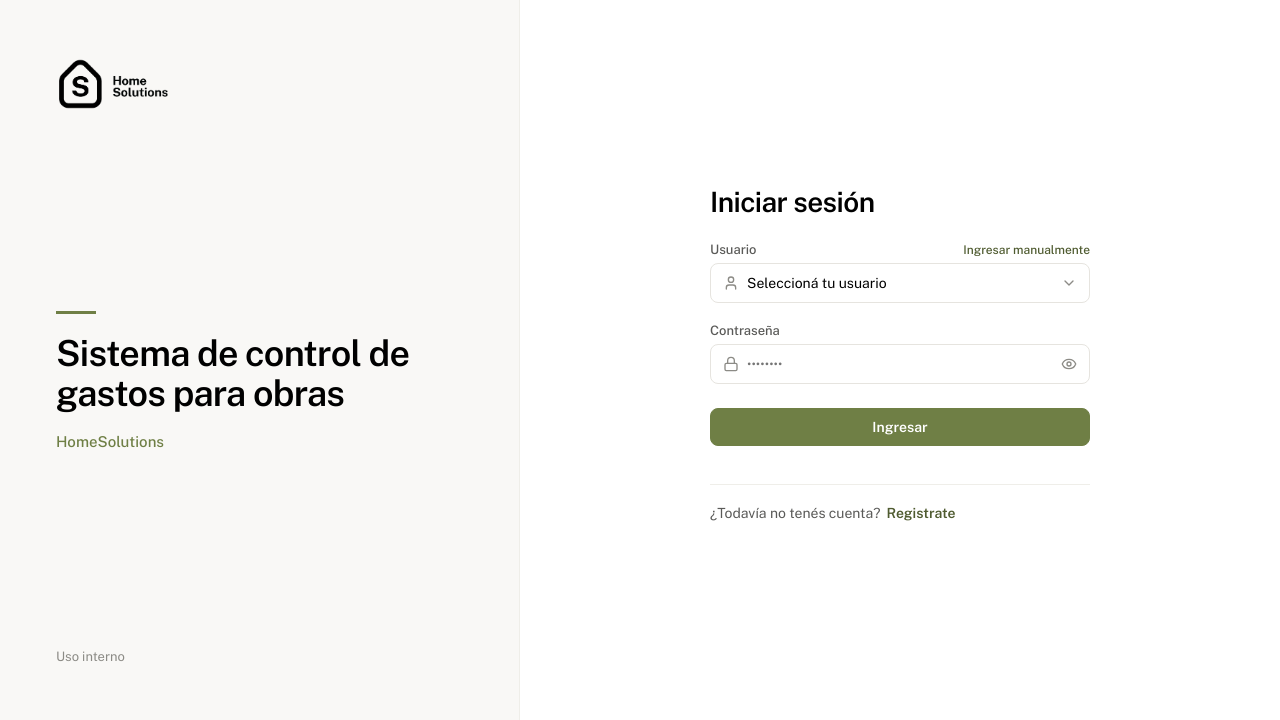
Login › muestra un mensaje de error genérico si login falla (401), sin el detail crudo del backend
Select "Agustin" in the dropdown. click: (900, 283)
box: [747, 264, 1053, 302]
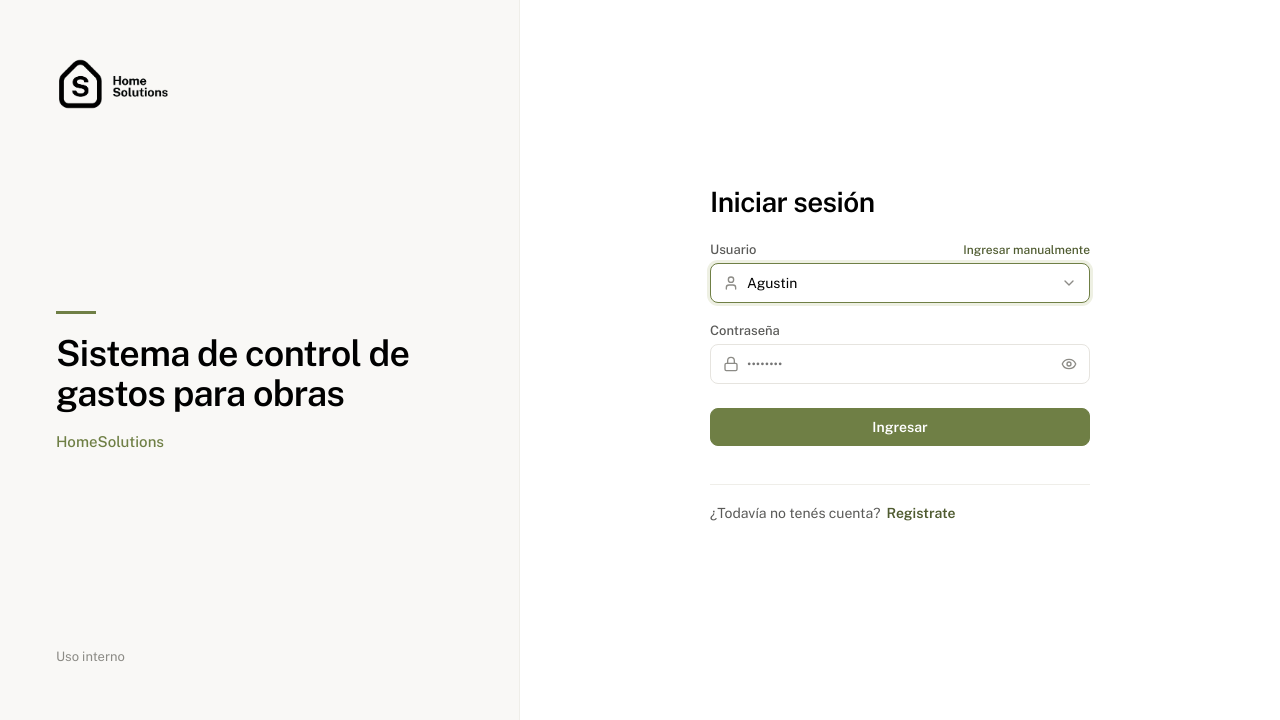
Type "mala-clave" into the password field with placeholder "••••••••". click: (900, 364)
box: [747, 345, 1053, 383]
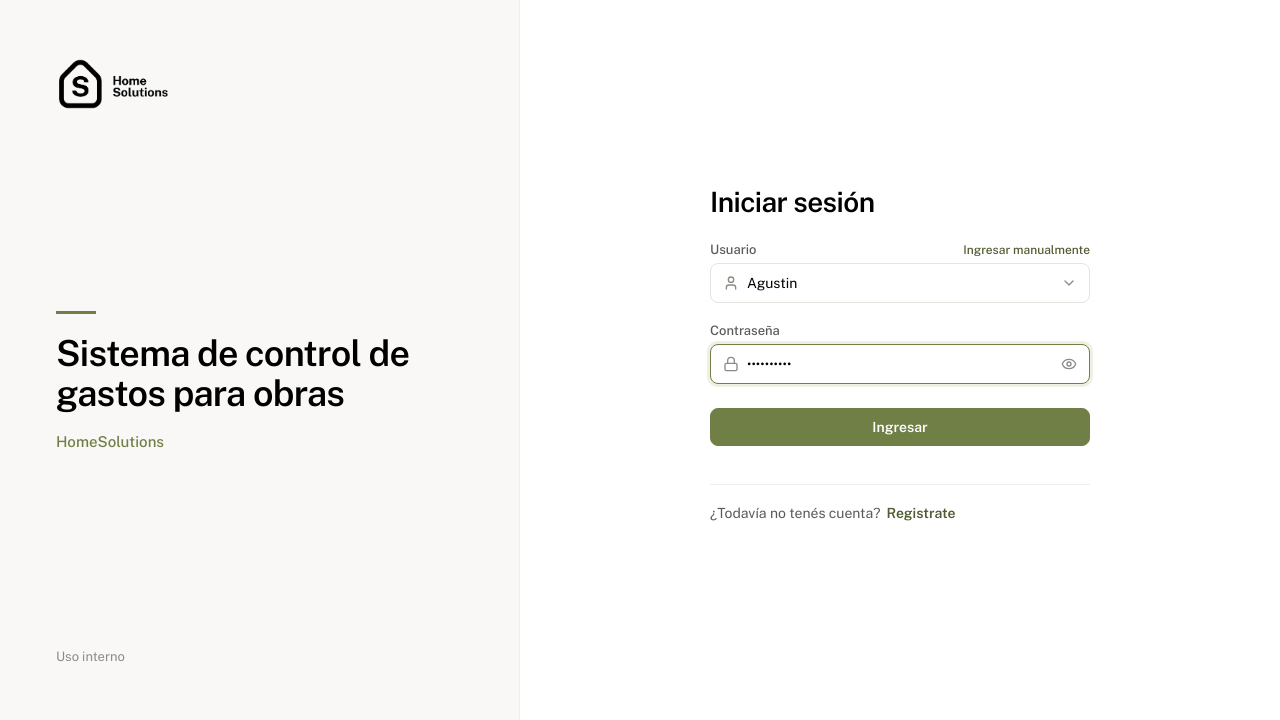
Click the button "Ingresar". click: (900, 427)
box: [710, 408, 1090, 446]
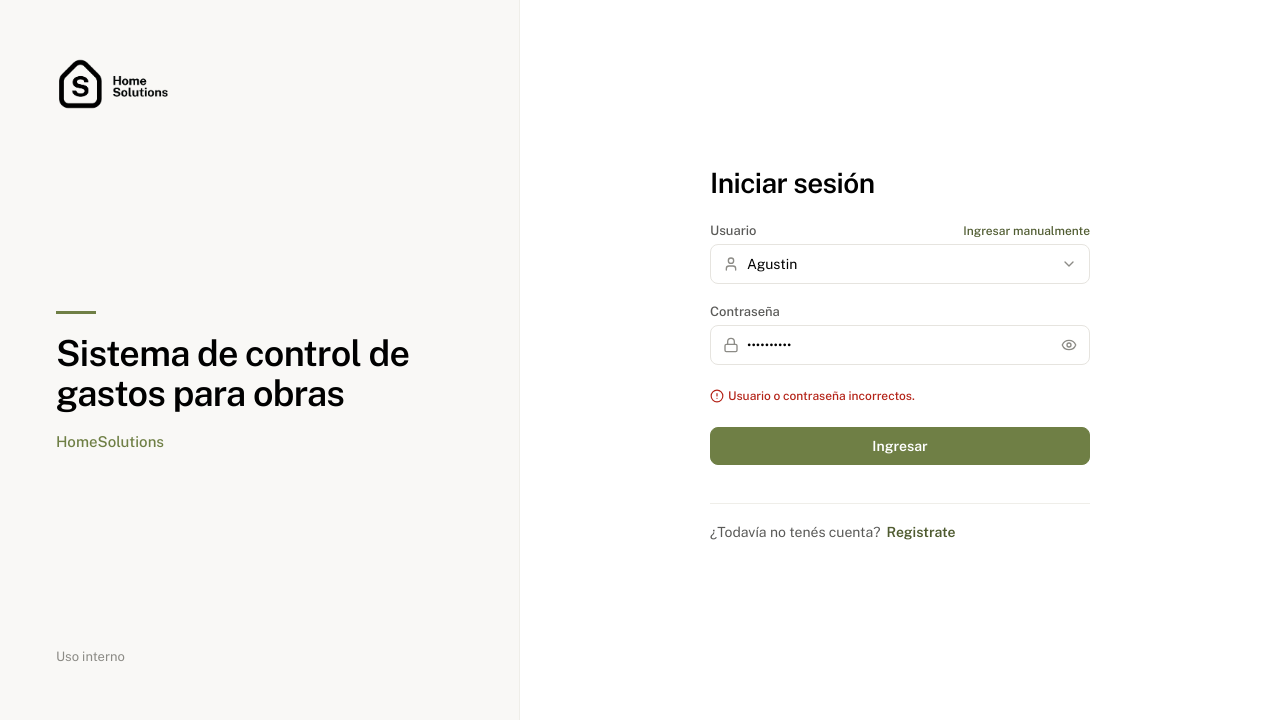
Now the text "Usuario o contraseña incorrectos." is shown, box [710, 389, 915, 403]
